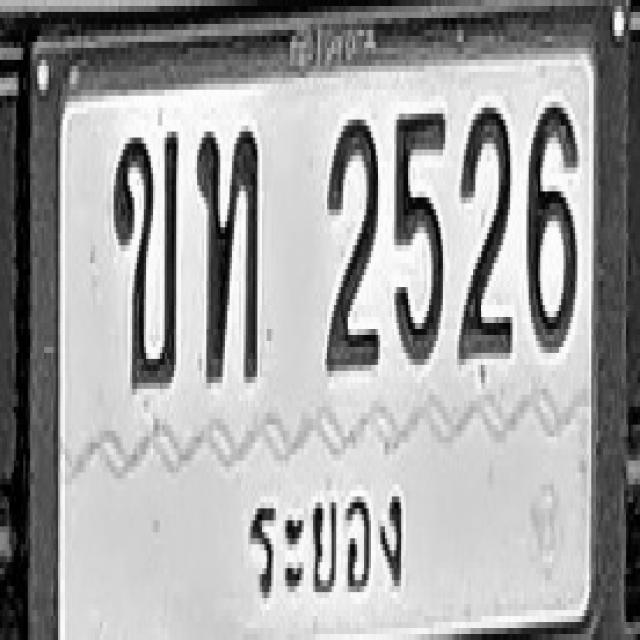11KhorKhai: (112, 128, 178, 386)
2: (458, 102, 511, 359), (326, 114, 379, 370)
32ThorThaHan: (197, 125, 257, 382)
5: (393, 105, 444, 362)
6: (526, 102, 578, 347)
Rayong: (235, 474, 414, 615)
